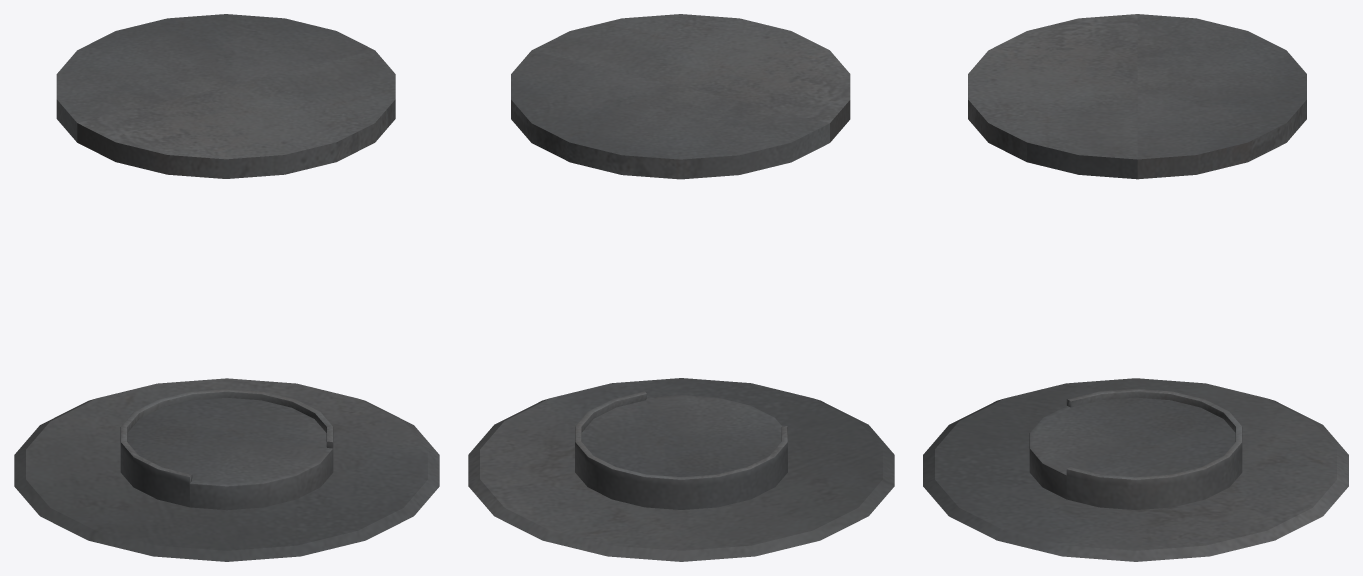
Rendered from Teleporter Texture.fbx.
3 renders of one model, left to right at view 1: azimuth 30°, elevation 25°; view 2: azimuth 150°, elevation 25°; view 3: azimuth 270°, elevation 25°, orthographic.
Visible parts, largest first — view 1: Cylinder001, Cylinder003; view 2: Cylinder001, Cylinder003; view 3: Cylinder001, Cylinder003.
Part boxes in pixels (<box>): Cylinder001: <box>14,378,439,561</box>; Cylinder003: <box>56,14,395,178</box>; Cylinder001: <box>468,378,894,561</box>; Cylinder003: <box>511,14,850,179</box>; Cylinder001: <box>923,378,1348,561</box>; Cylinder003: <box>968,14,1306,179</box>.
Size of the model in its own units: 3.38 by 3.31 by 3.33.
